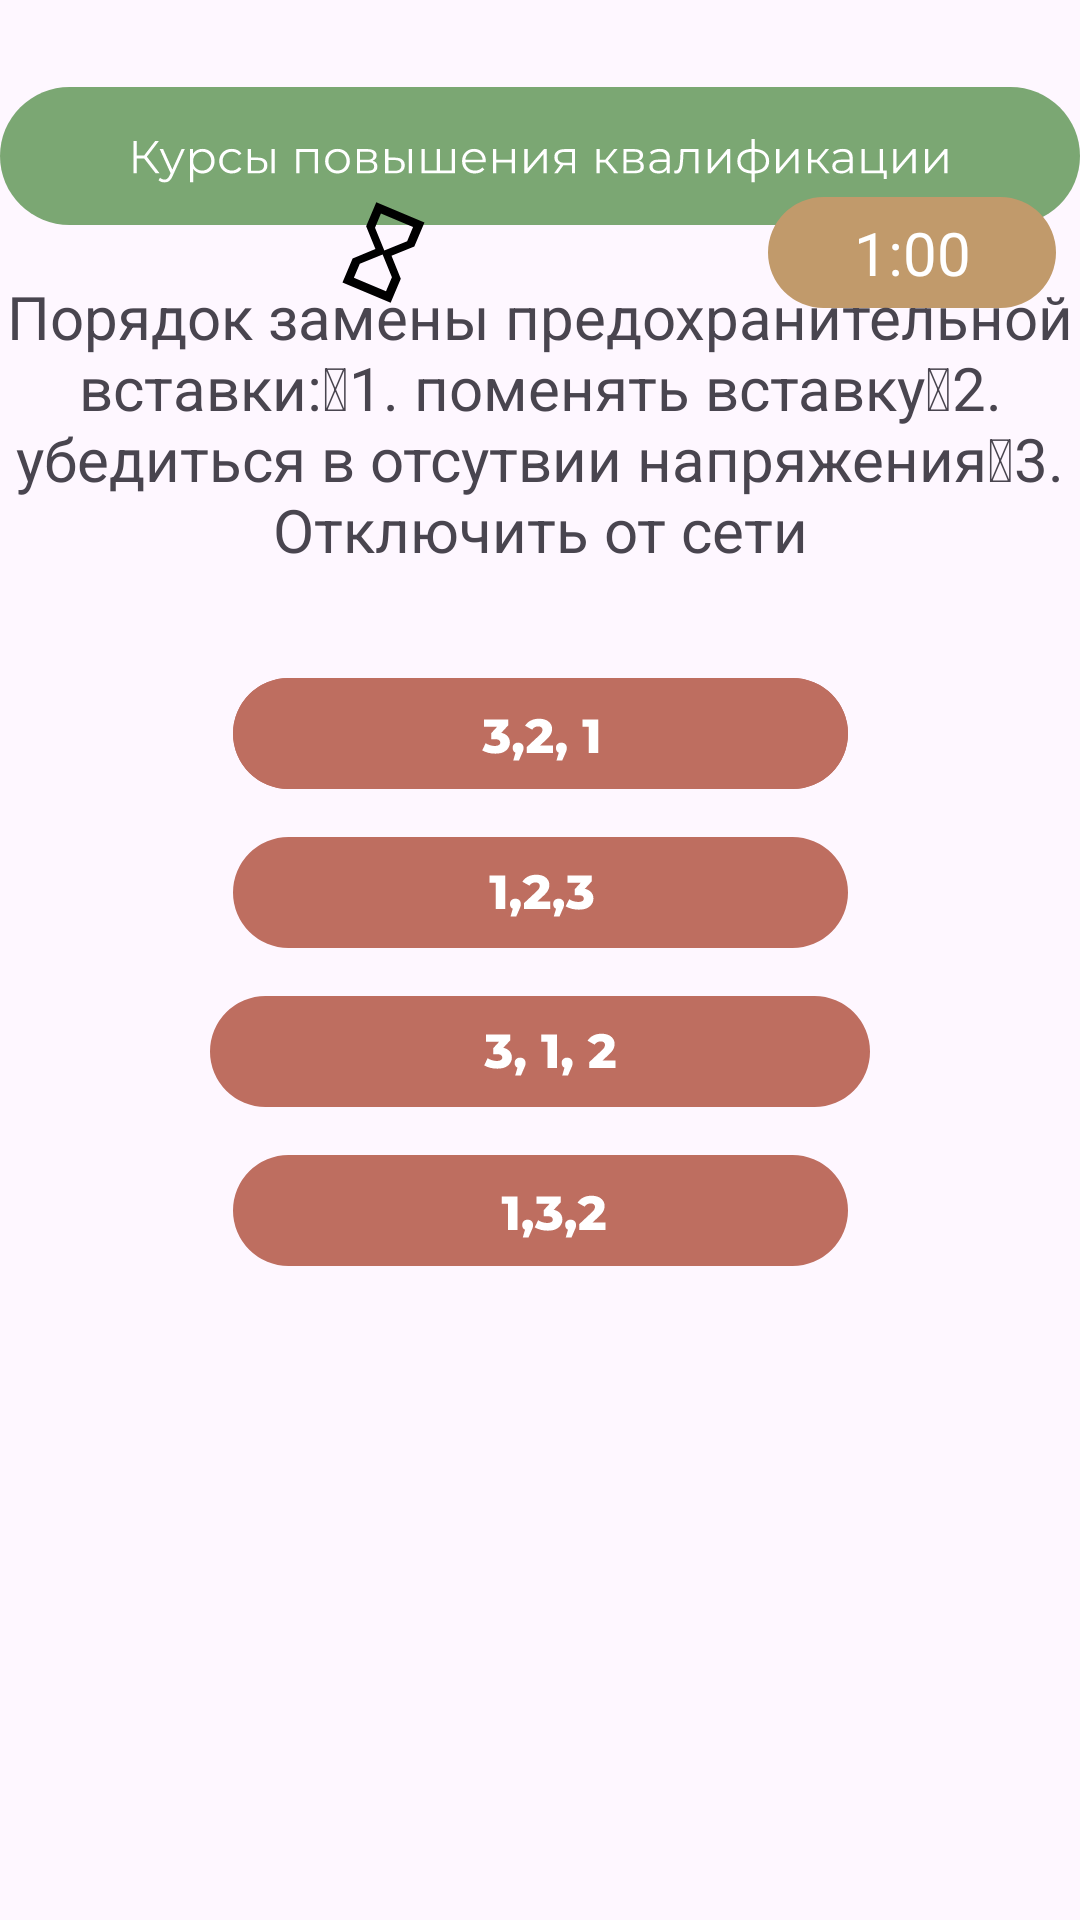

Icons on this 1080 × 1920 Android screen, each with the point to tap as (x=x, y=y):
time: (x=384, y=253)
